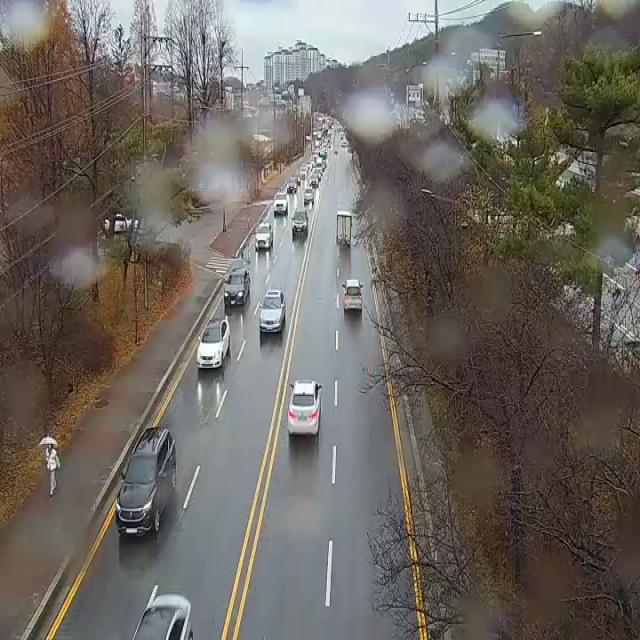Car: (115, 428, 176, 536), (132, 594, 193, 640), (288, 380, 322, 434), (197, 318, 230, 368), (260, 290, 285, 332), (224, 268, 250, 305), (342, 280, 362, 310), (105, 214, 138, 232), (255, 223, 272, 248), (292, 208, 308, 233), (274, 193, 288, 213), (287, 178, 297, 193), (304, 187, 313, 203), (310, 177, 318, 188), (297, 176, 300, 186)
Truck: (337, 210, 352, 245)
